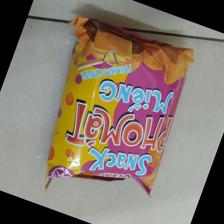Oishi_phomat: (46, 11, 195, 206)
